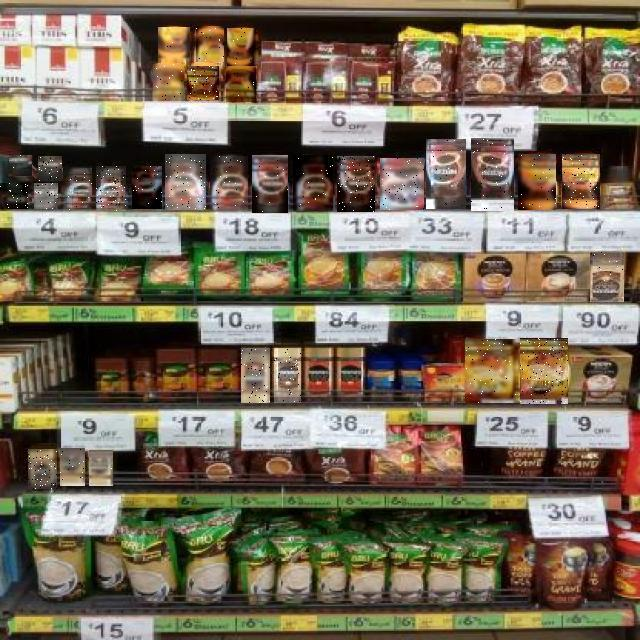Coffee: (466, 339, 518, 403), (520, 338, 568, 404), (471, 138, 514, 211), (426, 139, 466, 209), (165, 155, 206, 211), (381, 158, 425, 210), (293, 155, 333, 211), (519, 155, 557, 211), (337, 156, 375, 212), (562, 154, 600, 209), (252, 155, 288, 213), (210, 156, 248, 210), (591, 252, 625, 302), (241, 348, 270, 403), (274, 348, 301, 403), (96, 166, 126, 211), (63, 166, 92, 212), (132, 166, 162, 209), (28, 449, 57, 489), (153, 64, 184, 101), (228, 28, 258, 66), (187, 66, 219, 100), (158, 28, 190, 62), (226, 66, 256, 102), (196, 27, 224, 63), (60, 448, 85, 486), (89, 451, 113, 487), (1, 183, 29, 209), (10, 156, 36, 180), (34, 183, 58, 209), (38, 156, 62, 181)
